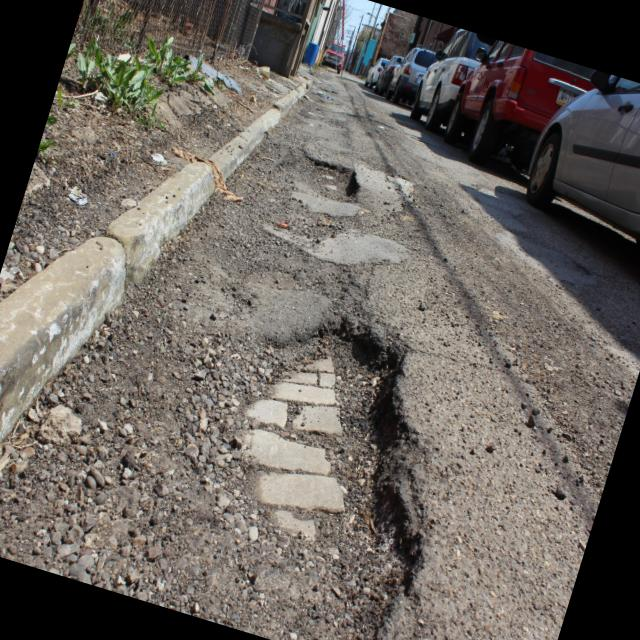Potholes: (129, 248, 516, 640), (254, 115, 412, 266)
